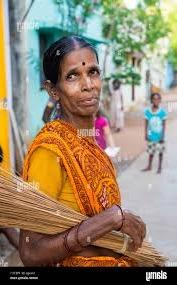Human: (19, 31, 149, 273)
